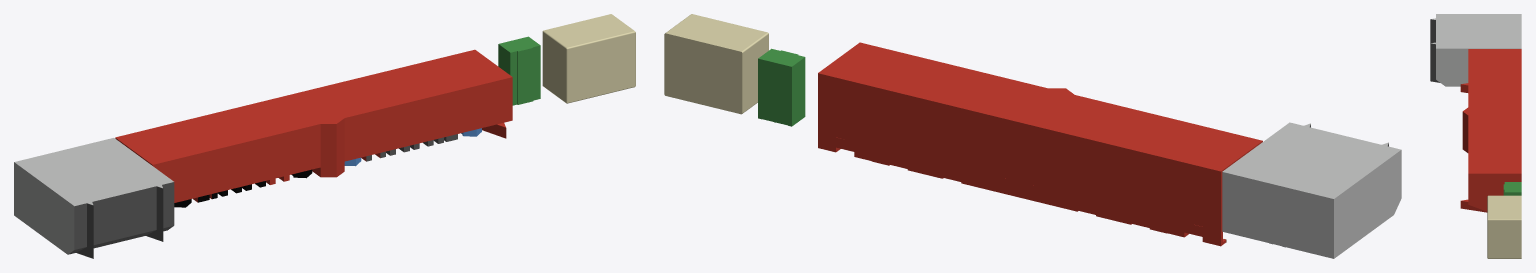
Rendered from ps122_right_map v4.fbx.
3 renders of one model, left to right at view 1: azimuth 30°, elevation 25°; view 2: azimuth 150°, elevation 25°; view 3: azimuth 270°, elevation 25°, orthographic. The views are drawn at different scales.
Visible parts, largest first — view 1: Body4, Body6, Body2, Body3; view 2: Body4, Body6, Body2, Body3; view 3: Body4, Body6, Body2, Body3.
Boxes of the visible parts, <box> form: Body4: <box>115,49,512,207</box>; Body6: <box>14,138,174,258</box>; Body2: <box>542,14,635,103</box>; Body3: <box>498,36,540,105</box>; Body4: <box>818,42,1262,246</box>; Body6: <box>1222,122,1401,258</box>; Body2: <box>664,14,768,114</box>; Body3: <box>758,48,805,126</box>; Body4: <box>1460,49,1521,212</box>; Body6: <box>1430,14,1521,86</box>; Body2: <box>1487,195,1521,258</box>; Body3: <box>1503,182,1521,195</box>.
Size of the model in its own units: 258 by 28.64 by 48.
